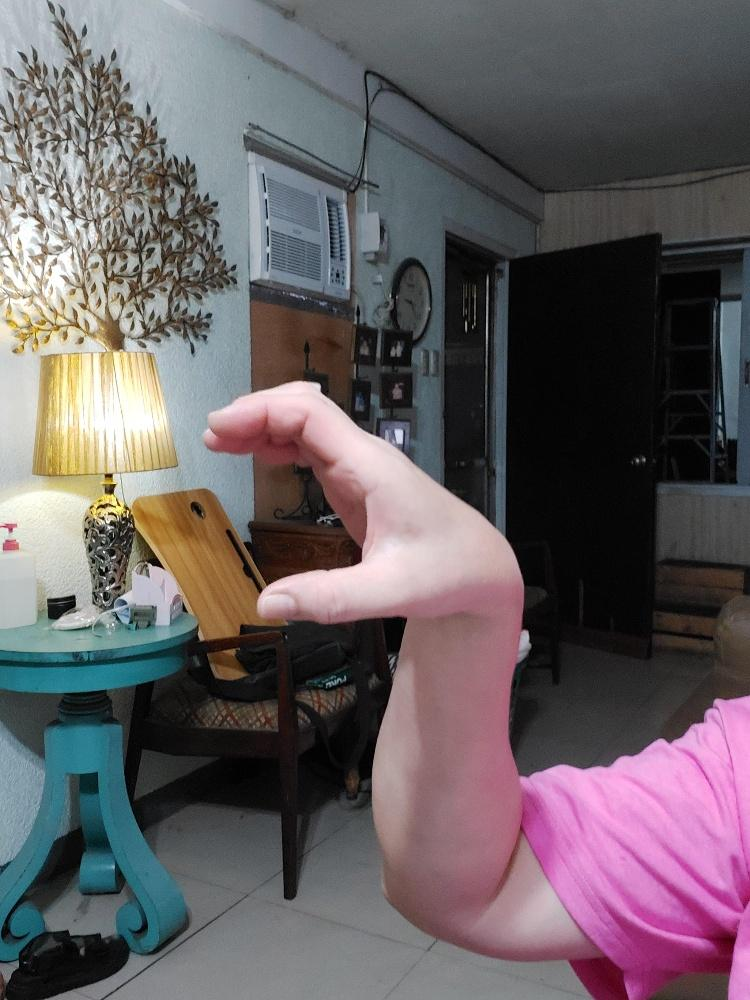c: (201, 379, 524, 624)
